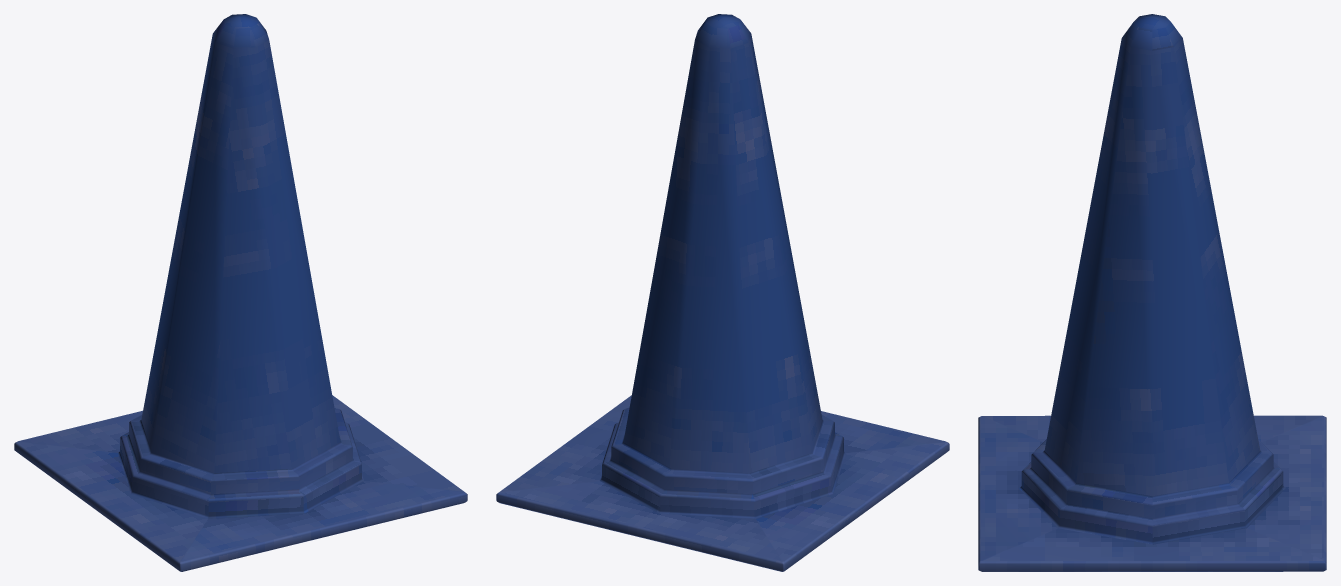
Rendered from objects_un_dlc2_safetycone01.gltf.
3 renders of one model, left to right at view 1: azimuth 30°, elevation 25°; view 2: azimuth 150°, elevation 25°; view 3: azimuth 270°, elevation 25°, orthographic. The views are drawn at different scales.
Parts seen in each view (by area): view 1: um_objects_un_dlc2_safetycone01_model_lod0Shape:objects_un_d; view 2: um_objects_un_dlc2_safetycone01_model_lod0Shape:objects_un_d; view 3: um_objects_un_dlc2_safetycone01_model_lod0Shape:objects_un_d.
Part boxes in pixels (bbox=[...]): um_objects_un_dlc2_safetycone01_model_lod0Shape:objects_un_d: bbox=[14, 14, 467, 571]; um_objects_un_dlc2_safetycone01_model_lod0Shape:objects_un_d: bbox=[496, 14, 949, 571]; um_objects_un_dlc2_safetycone01_model_lod0Shape:objects_un_d: bbox=[978, 14, 1326, 571].
Size of what is drawn, in the model's own units: 0.5249 by 0.8008 by 0.5249.
2 materials, 1 textured.
